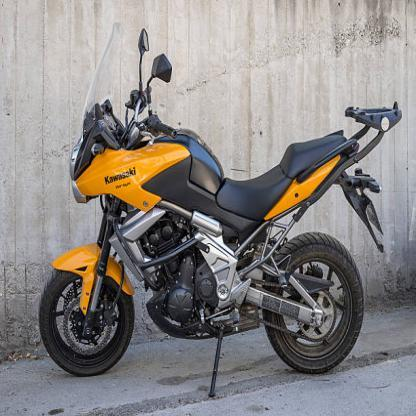Motorcycle: (29, 27, 395, 403)
